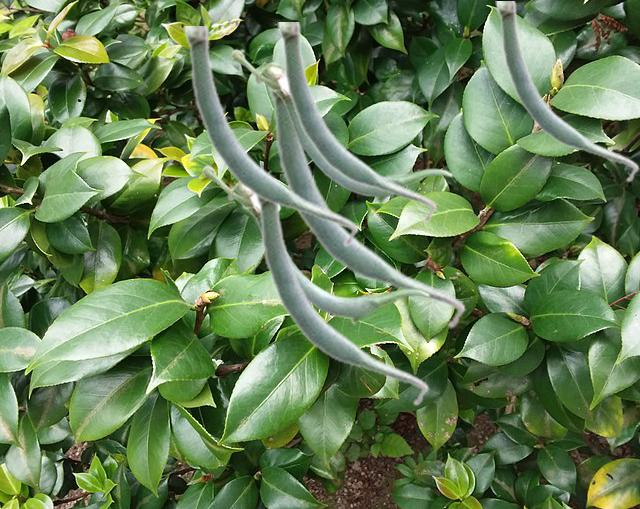french_bean: (266, 87, 465, 329), (183, 26, 358, 247), (253, 195, 428, 406), (201, 164, 429, 324), (230, 48, 452, 203), (277, 22, 436, 223), (495, 1, 638, 182)
